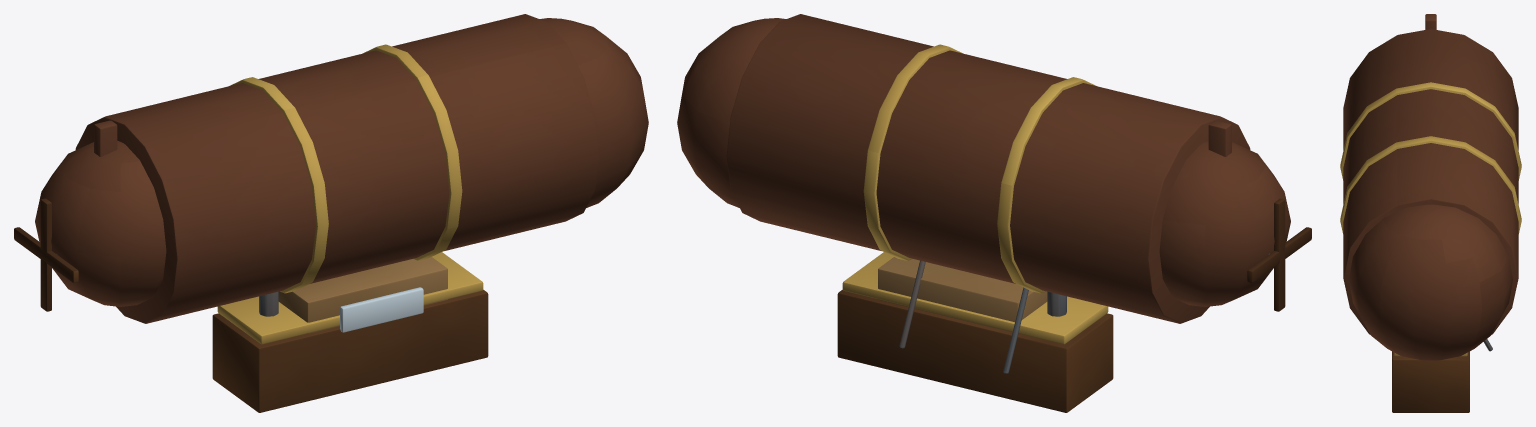
Rendered from unit_university_airship.fbx.
3 renders of one model, left to right at view 1: azimuth 30°, elevation 25°; view 2: azimuth 150°, elevation 25°; view 3: azimuth 270°, elevation 25°, orthographic. The views are drawn at different scales.
Visible parts, largest first — view 1: unit_university_airship; view 2: unit_university_airship; view 3: unit_university_airship.
Boxes of the visible parts, bbox=[...] form: unit_university_airship: bbox=[14, 14, 648, 412]; unit_university_airship: bbox=[677, 14, 1311, 412]; unit_university_airship: bbox=[1340, 14, 1521, 412].
Bounding box in the file's own units: 3.99 × 1.96 × 1.28.
